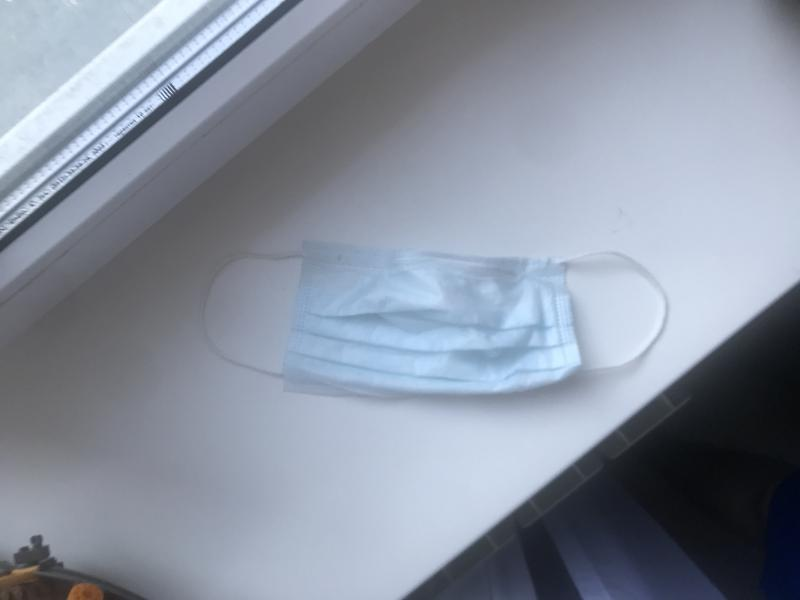medical_mask: (196, 242, 670, 394)
